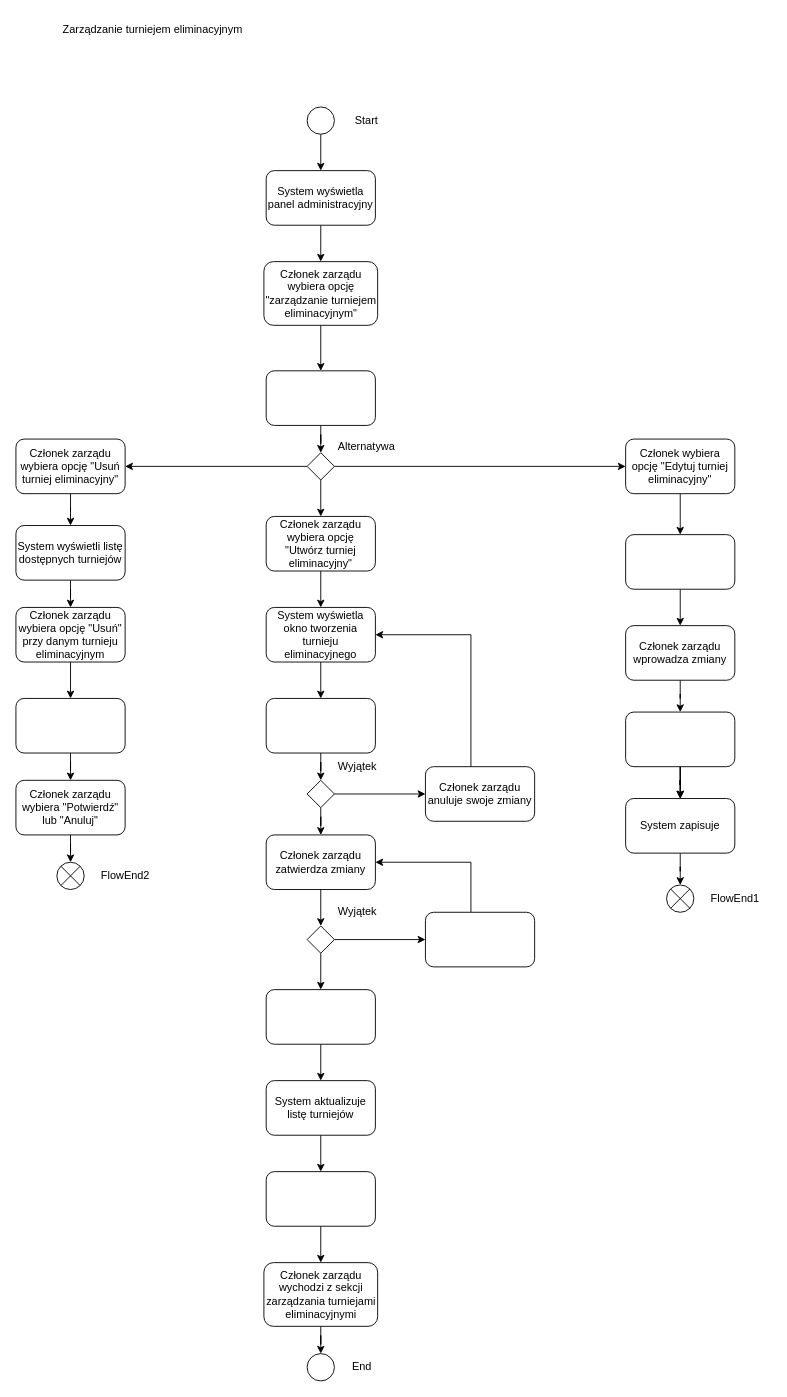
The diagram is 787 pixels wide and 1397 high, and some of its shapes have lost their labels. The centre of each missing label's shape, as x and y in pixels:
"Członek zarządu monitoruje istniejące turnieje" belongs at point (320, 1198).
"Członek zarządu wprowadza wymagane dane" belongs at point (320, 725).
"System prosi o potwierdzenie operacji" belongs at point (70, 725).
"System wyświetla formularz z danymi turniejami" belongs at point (680, 561).
"System wyświetla okno zarządzania turniejami eliminacyjnymi" belongs at point (320, 397).
"System zapisuje zmiany" belongs at point (320, 1016).
"System zwraca błąd zapisu, prosi członka zarządu o ponowienie operacji" belongs at point (480, 939).
"Zatwierdza wprowadzone zmiany" belongs at point (680, 739).
